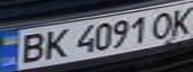0: (93, 20, 115, 52)
1: (127, 14, 154, 45)
4: (72, 21, 96, 55)
9: (109, 17, 133, 50)
B: (12, 30, 51, 65)
K: (36, 26, 72, 61), (166, 4, 193, 36)
O: (148, 9, 178, 39)
